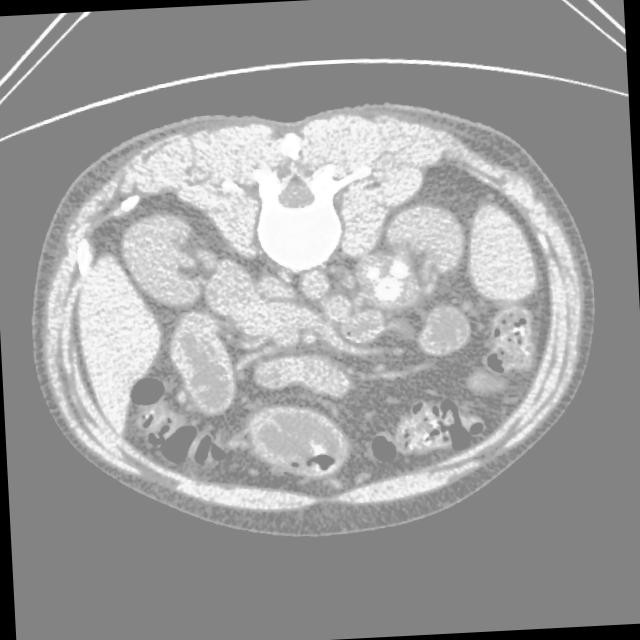STONE: (108, 252, 562, 549)
